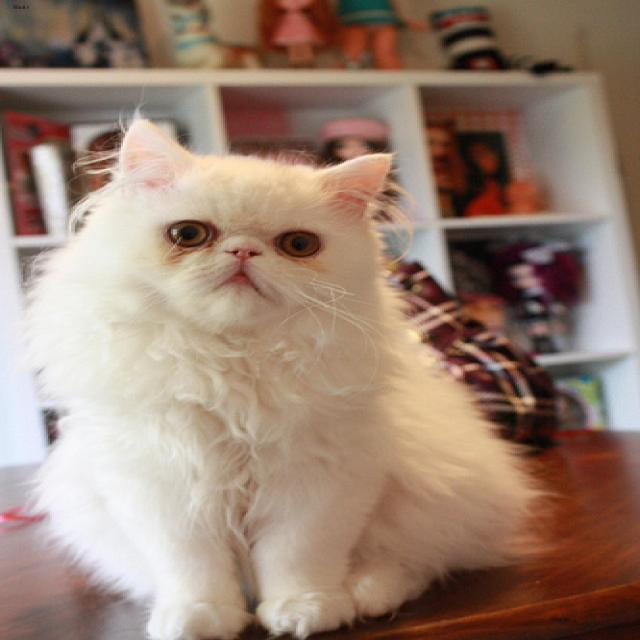Persian: (68, 112, 408, 344)
